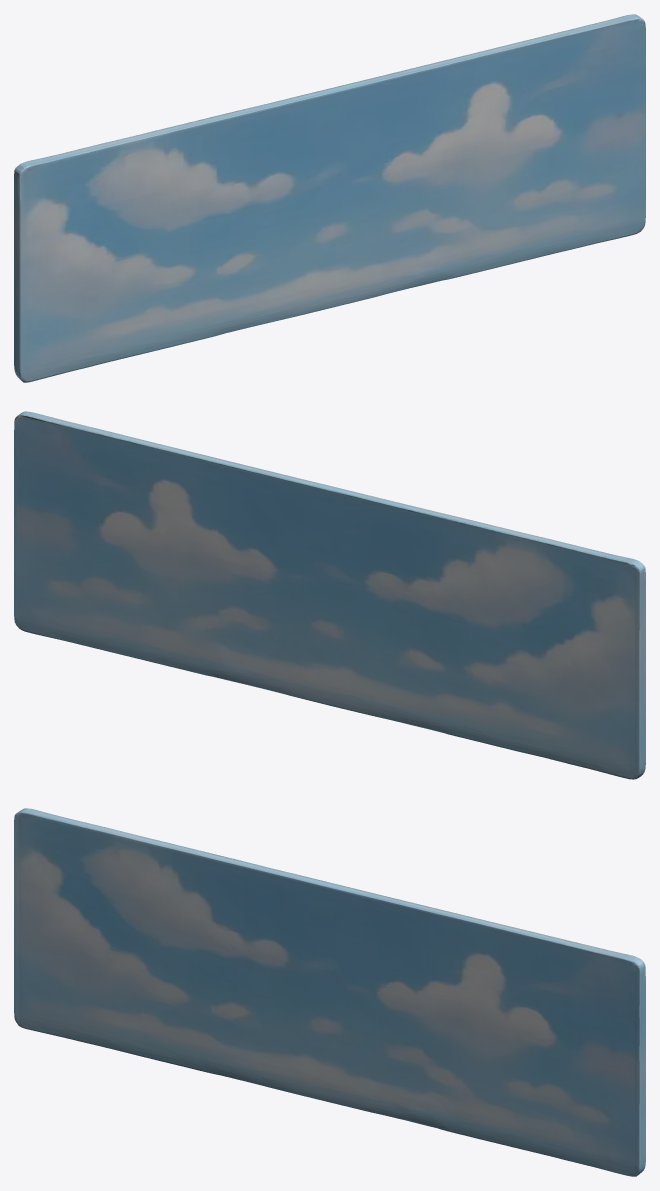
3 renders of one model, top to bottom at view 1: azimuth 30°, elevation 25°; view 2: azimuth 150°, elevation 25°; view 3: azimuth 330°, elevation 25°, orthographic.
Parts seen in each view (by area): view 1: world; view 2: world; view 3: world.
Boxes of the visible parts, <box> form: world: <box>14,14,645,382</box>; world: <box>14,411,645,779</box>; world: <box>14,808,645,1176</box>.
Bounding box in the file's own units: 1 × 0.3308 × 0.0185.
Materials: 1 (1 with a texture image).
